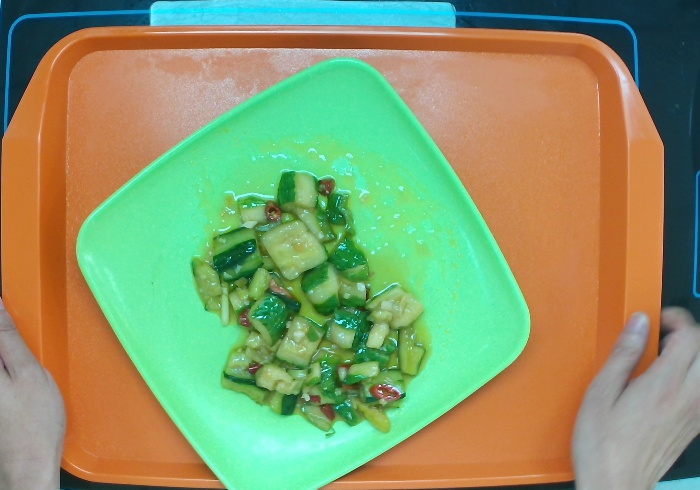ZNLD-Lv_Fang_Pan: (74, 56, 535, 490)
